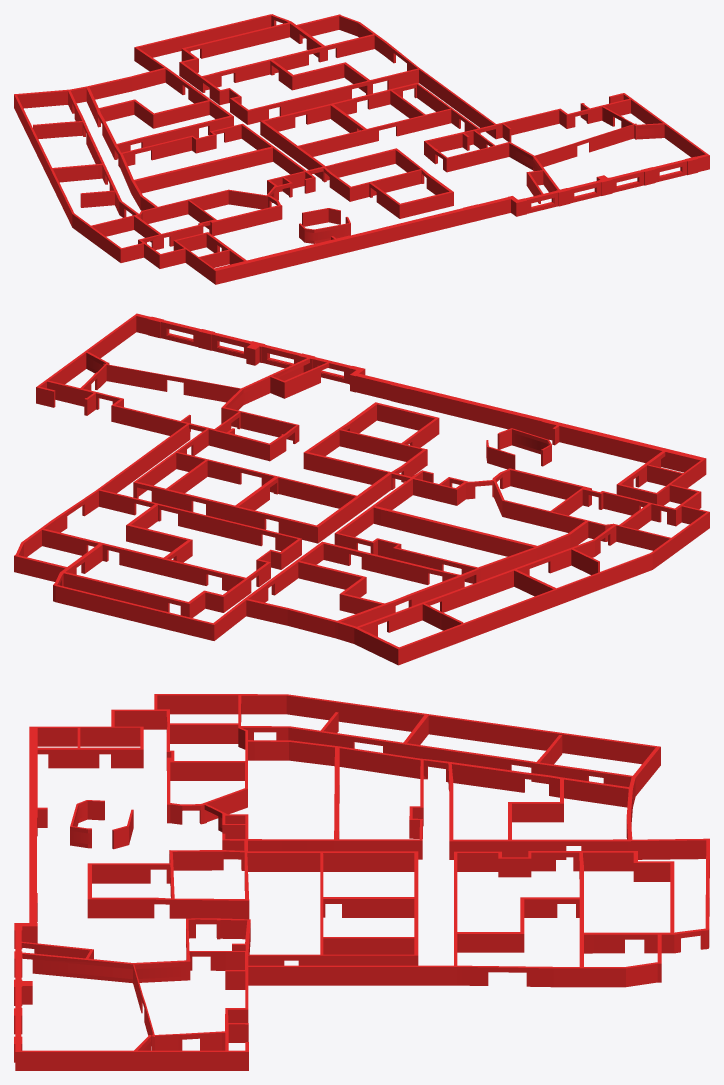
The model's file is roomm.FBX.
The picture shows the model from 3 angles, top to bottom: view 1: azimuth 30°, elevation 25°; view 2: azimuth 150°, elevation 25°; view 3: azimuth 270°, elevation 25°; orthographic projection. The views are drawn at different scales.
Parts seen in each view (by area): view 1: Line004; view 2: Line004; view 3: Line004.
Part boxes in pixels (x1=…): Line004: x1=14, y1=14, x2=709, y2=284; Line004: x1=14, y1=313, x2=709, y2=665; Line004: x1=14, y1=694, x2=709, y2=1070.
Size of the model in its own units: 12084 by 300 by 9931.
